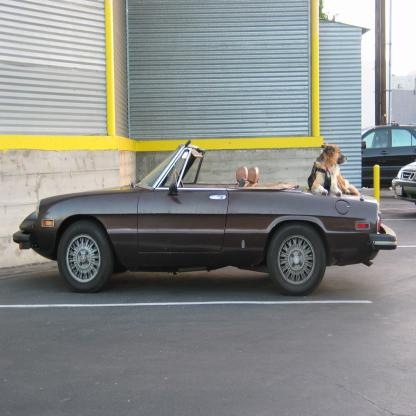Car: (13, 138, 398, 293), (362, 121, 415, 188), (389, 161, 415, 208)
